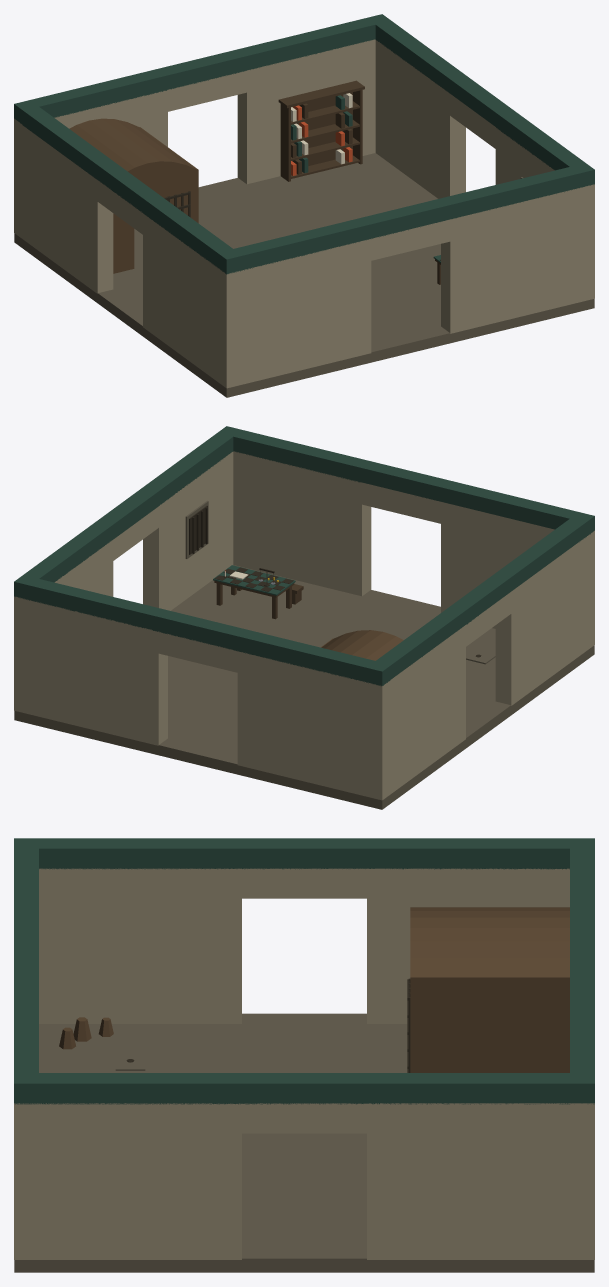
Rendered from LateCountingHouse.fbx.
3 renders of one model, top to bottom at view 1: azimuth 30°, elevation 25°; view 2: azimuth 150°, elevation 25°; view 3: azimuth 270°, elevation 25°, orthographic. The views are drawn at different scales.
Visible parts, largest first — view 1: LateCountingHouse; view 2: LateCountingHouse; view 3: LateCountingHouse.
Boxes of the visible parts, x1=… form: LateCountingHouse: x1=14, y1=14, x2=594, y2=397; LateCountingHouse: x1=14, y1=426, x2=594, y2=809; LateCountingHouse: x1=14, y1=838, x2=594, y2=1272.
Bounding box in the file's own units: 1202 × 432 × 1202.
Materials: 10 (10 with a texture image).
